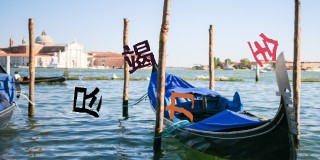全: (245, 32, 279, 71)
力: (165, 89, 197, 124)
尽: (71, 84, 103, 119)
竭: (122, 39, 157, 74)
